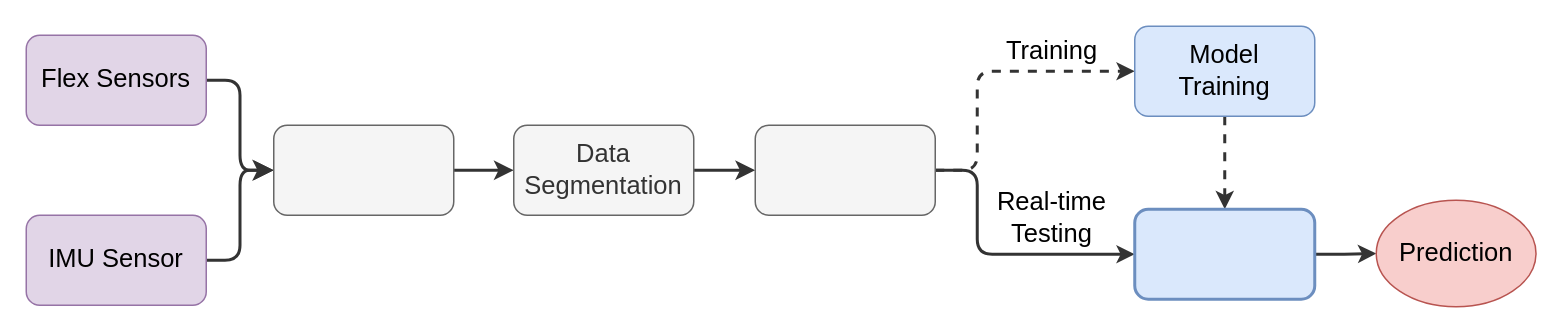
Image size: 1563x333. Some labels were removed from this diagram. The shapes that lost their labels are listed below. From the top down, each one's centre as x and y in pixels, then its label:
At point 363,169: "Preprocessing".
At point 844,169: "Feature Extraction".
At point 1224,253: "Classifier".
